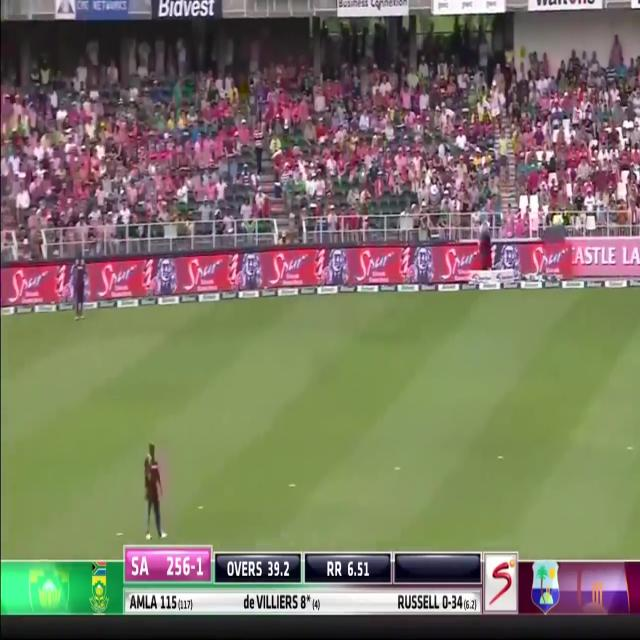Fielder: (142, 440, 163, 538)
